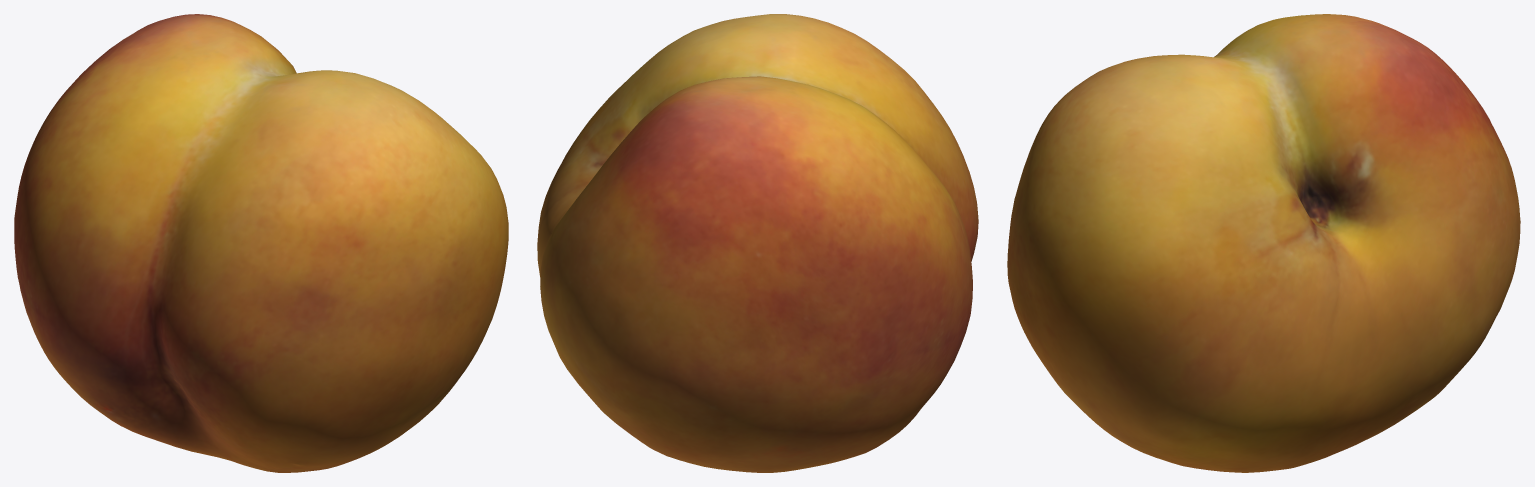
File: peach.fbx
3 renders of one model, left to right at view 1: azimuth 30°, elevation 25°; view 2: azimuth 150°, elevation 25°; view 3: azimuth 270°, elevation 25°, orthographic. The views are drawn at different scales.
Visible parts, largest first — view 1: ZBrush_defualt_group002; view 2: ZBrush_defualt_group002; view 3: ZBrush_defualt_group002.
Part boxes in pixels (box(x1,y1,x2,y2)): ZBrush_defualt_group002: box(14, 14, 508, 472); ZBrush_defualt_group002: box(537, 14, 978, 472); ZBrush_defualt_group002: box(1007, 14, 1520, 472).
Bounding box in the file's own units: 9.86 × 8.91 × 10.25.
1 material, 1 textured.
